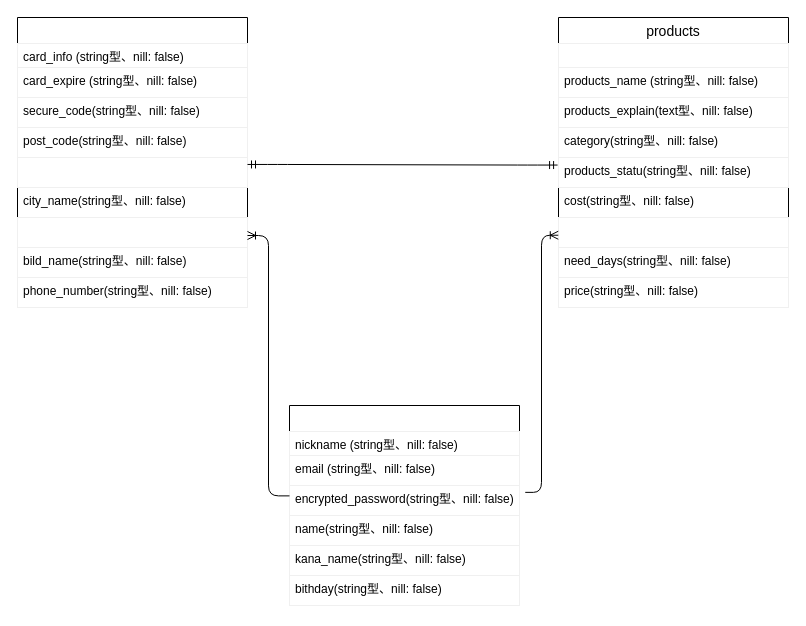
This 806x626 diagram has some shape labels left out. The shapes that lost their labels are listed below. From the top down, each one's box as (x1, y1, x2, y2) in pixels, then its label:
(558, 42, 788, 68): image
(16, 16, 248, 308): buys
(16, 156, 248, 188): prefecture(string型、nill: false)
(16, 216, 248, 248): address(string型、nill: false)
(558, 216, 788, 248): seller_place(string型、nill: false)
(288, 404, 520, 606): users
